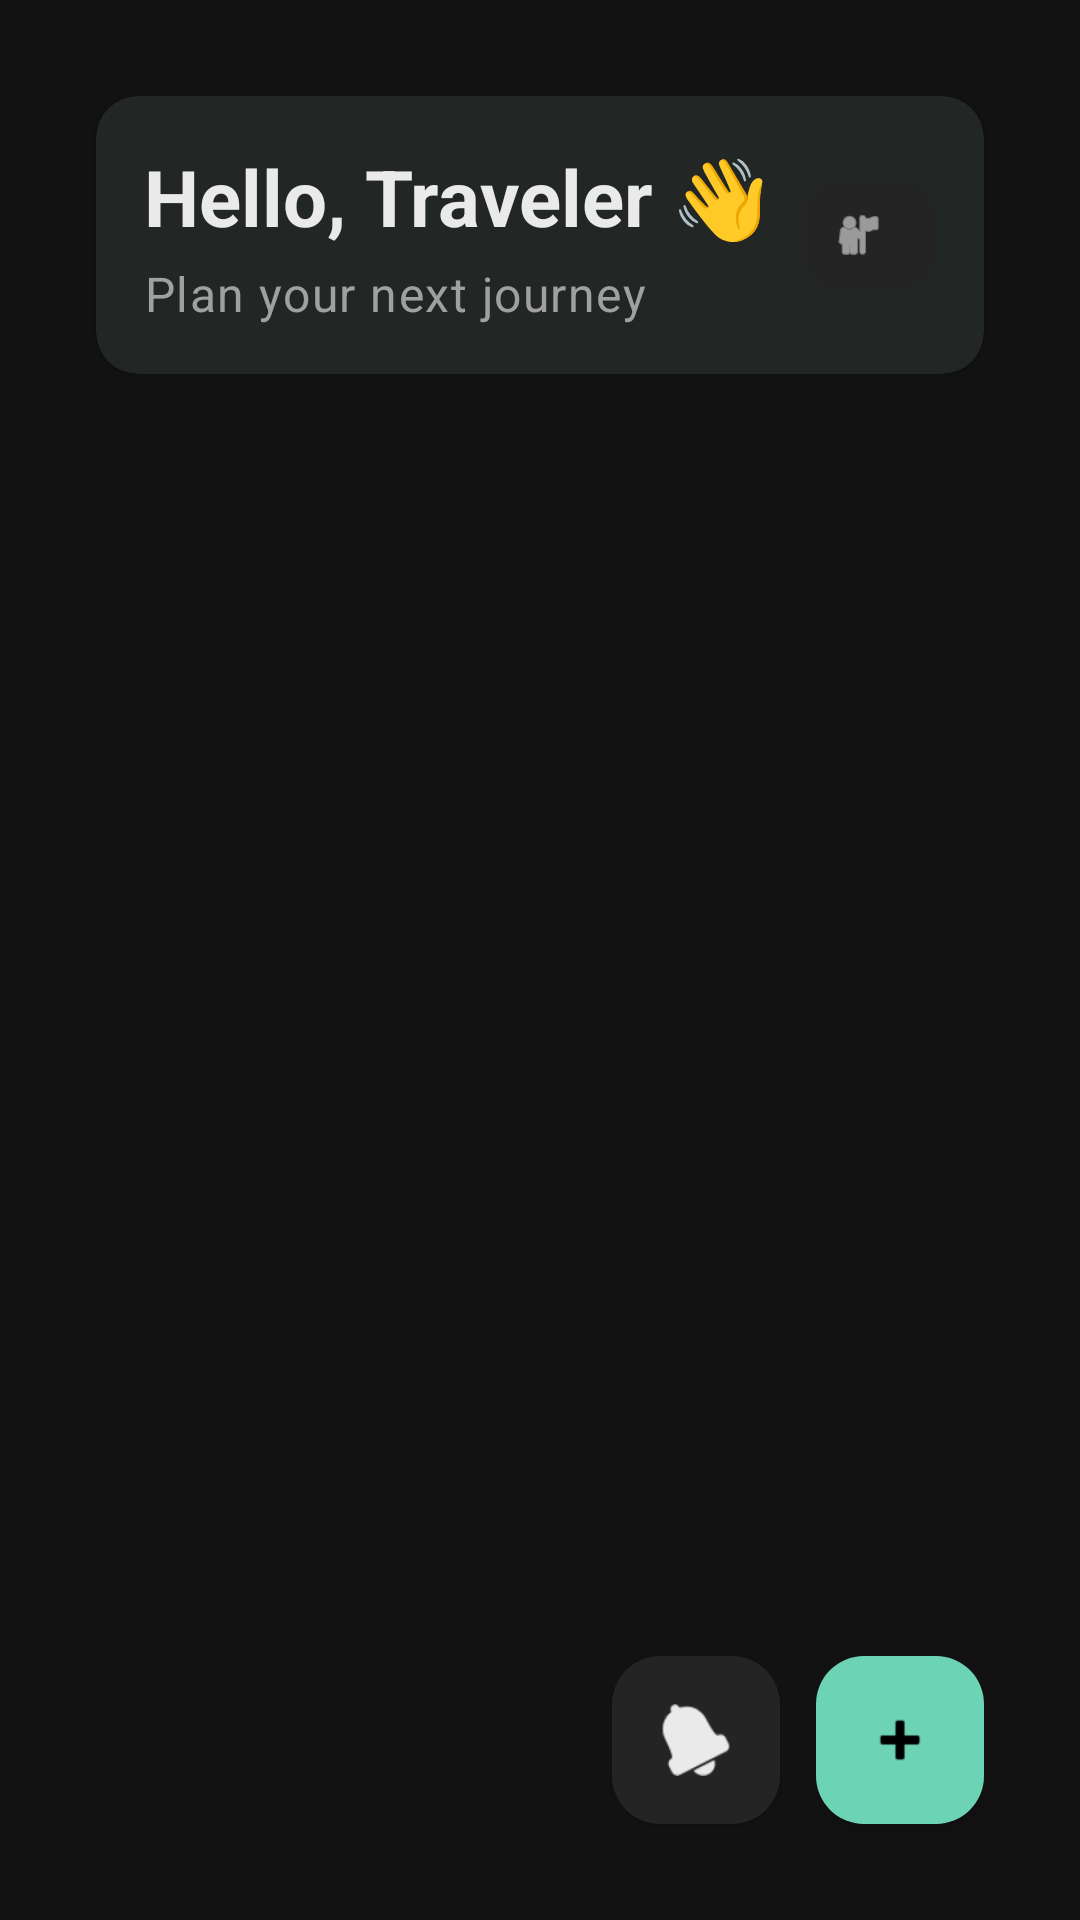

Named icons in this screenshot (1080×1920) and their bounding boxes, box=[x1, y1, x2, y2]:
Add trip: box=[816, 1656, 984, 1824]
myplaces: box=[838, 215, 879, 255]
Notifications: box=[662, 1704, 730, 1776]
